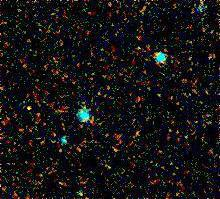star: (16, 92, 46, 122)
